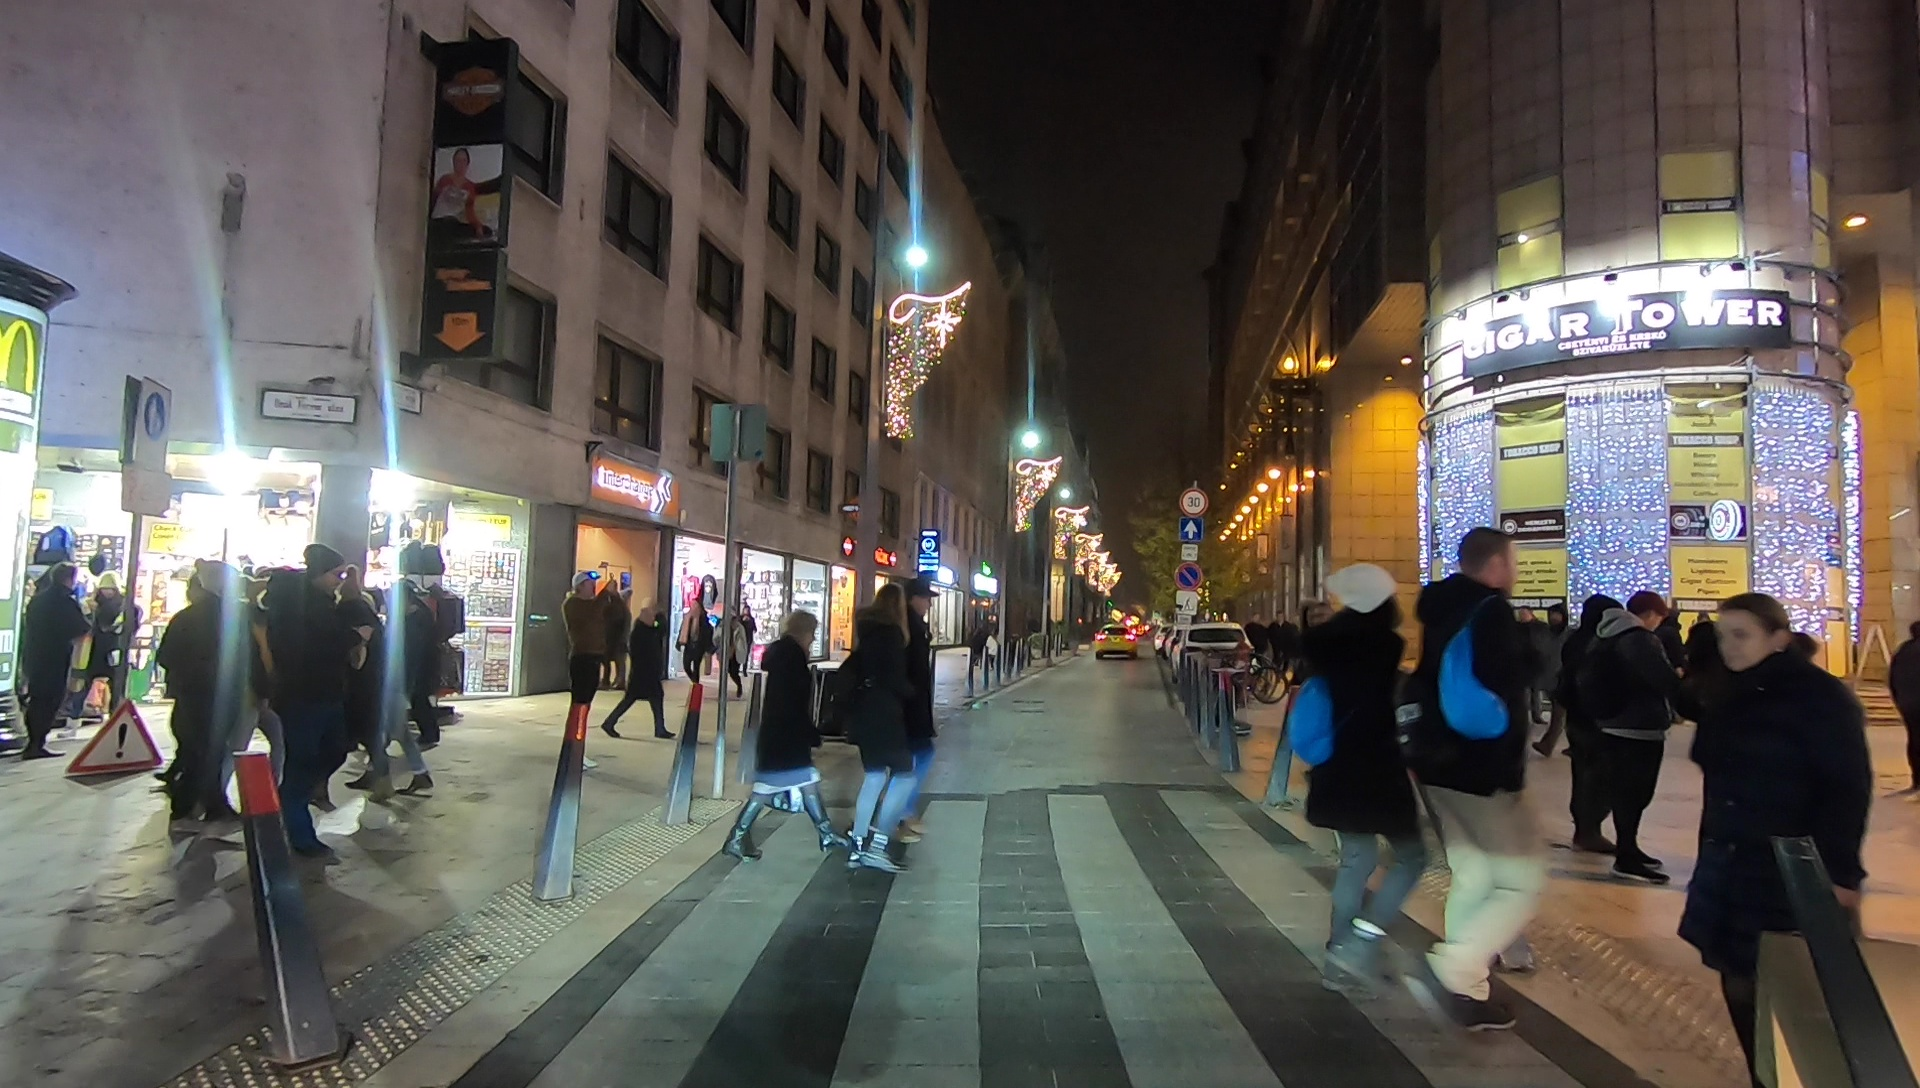person: (1702, 608, 1863, 1088), (1417, 528, 1541, 1015), (1288, 561, 1417, 991), (262, 556, 365, 849), (160, 554, 262, 845), (726, 613, 843, 863), (1599, 591, 1678, 895), (1556, 584, 1630, 854), (841, 573, 906, 874), (886, 569, 945, 834), (608, 597, 673, 763), (26, 560, 82, 739), (565, 571, 610, 741), (89, 571, 130, 711), (673, 589, 715, 699), (715, 600, 745, 708)
